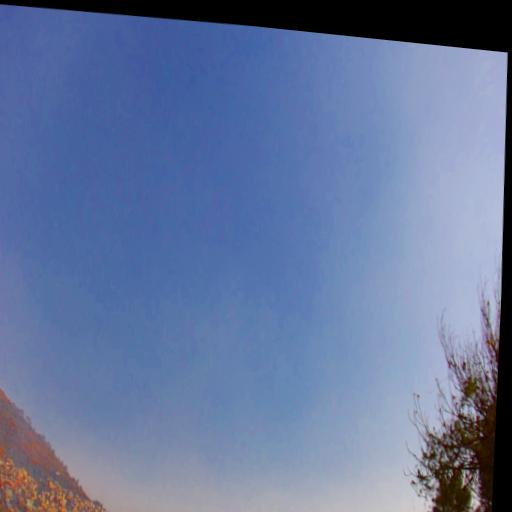drones: (165, 417, 169, 423)
